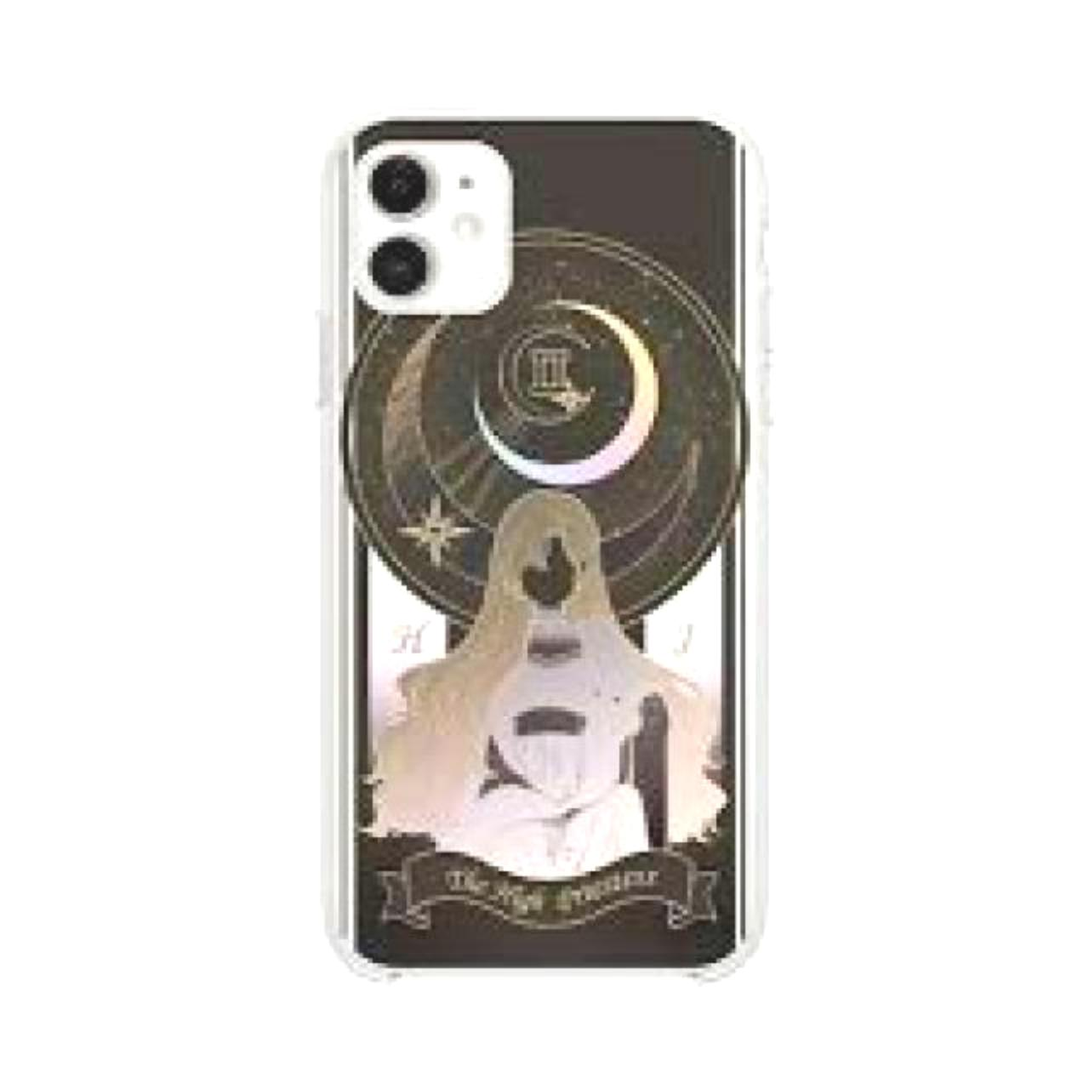phone: (315, 102, 774, 999)
